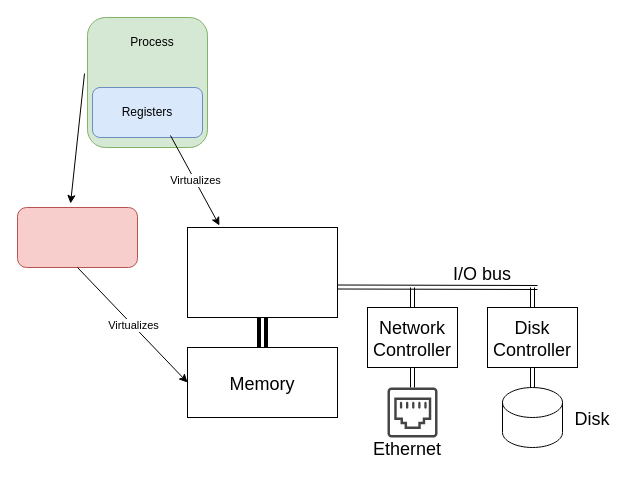
This 635x480 diagram has some shape labels left out. The shapes that lost their labels are listed below. From the top down, each one's centre as x and y in pixels, then its label:
(x=77, y=237): Address Space
(x=262, y=272): CPU
